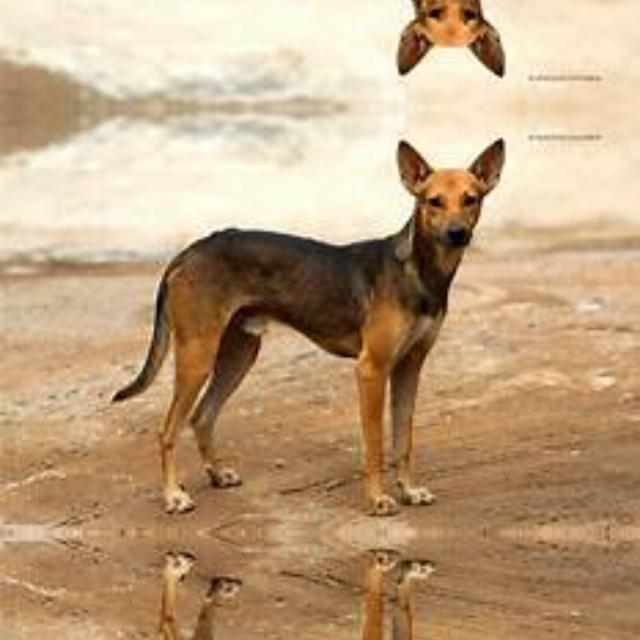dog: (89, 119, 559, 533), (89, 533, 559, 640), (89, 0, 559, 95)
